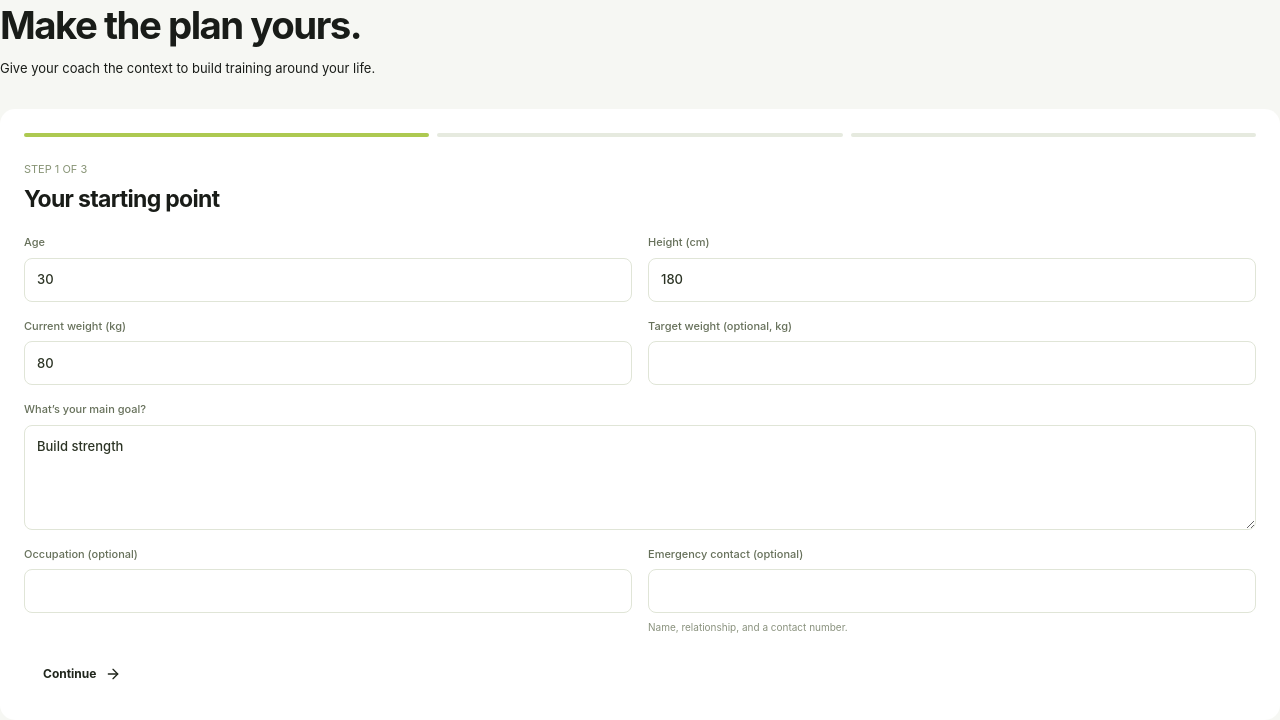
Test: assessment and consent updates › uses the current policy version, preserves a withdrawn photo permission, and omits blank numeric fields
(page scrolled)
Expected: the heading "Your starting point" is shown, [24,185,219,213]
Click the button "Continue" at point(82, 674), box [24,652,140,696]
(page scrolled)
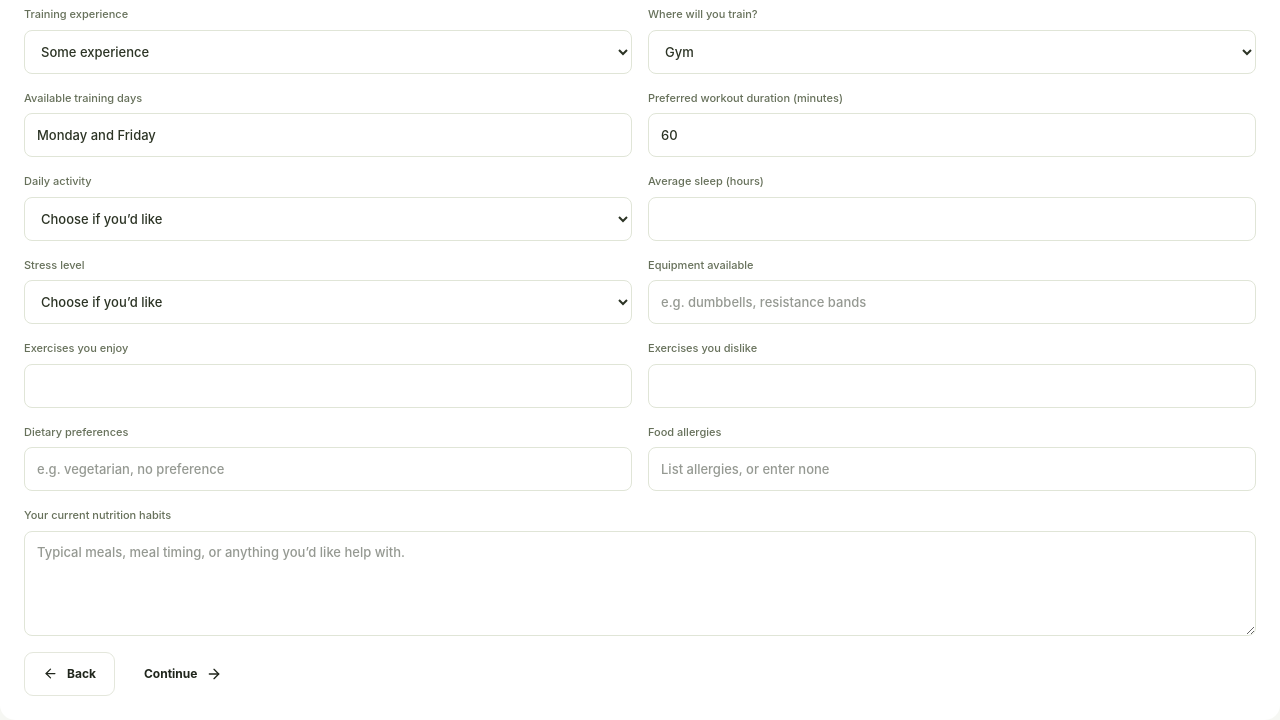
Click the button "Continue" at point(183, 674), box [125,652,241,696]
(page scrolled)
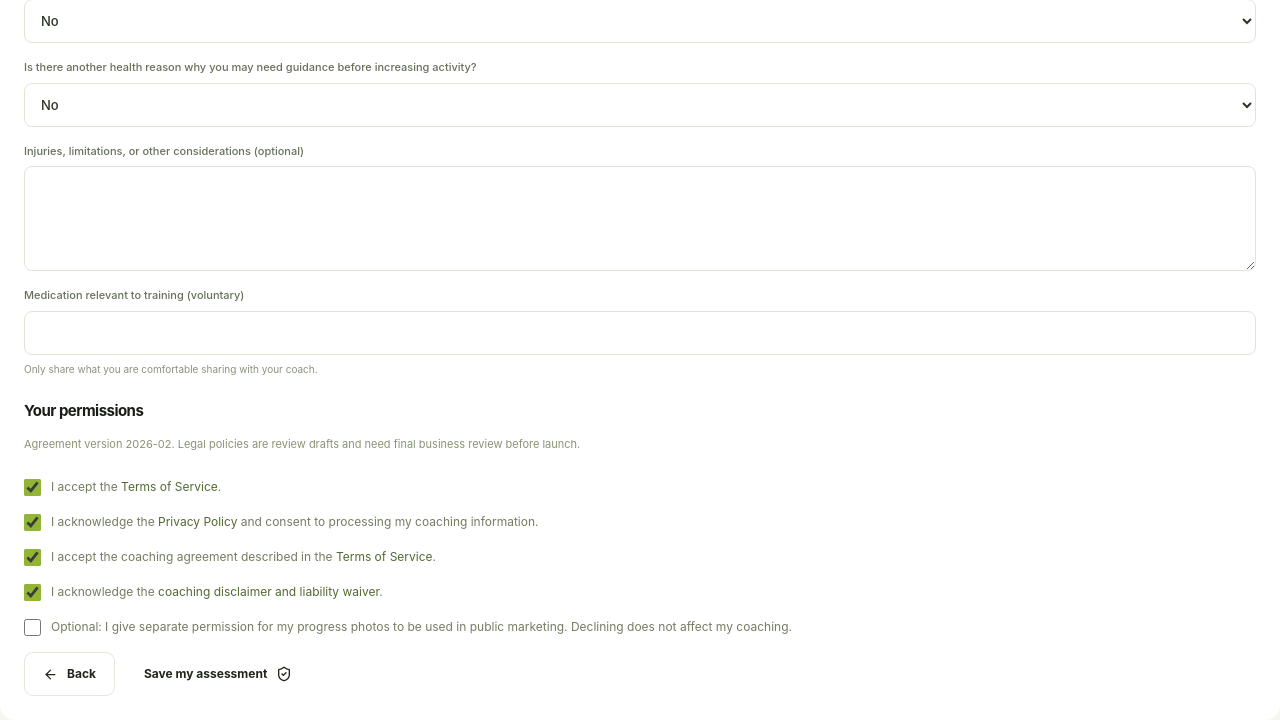
Result: the checkbox labelled "Optional: I give separate permission" is not checked at [24,619,41,636]
Click the button "Save my assessment" at point(218, 674), box [125,652,311,696]
(page scrolled)
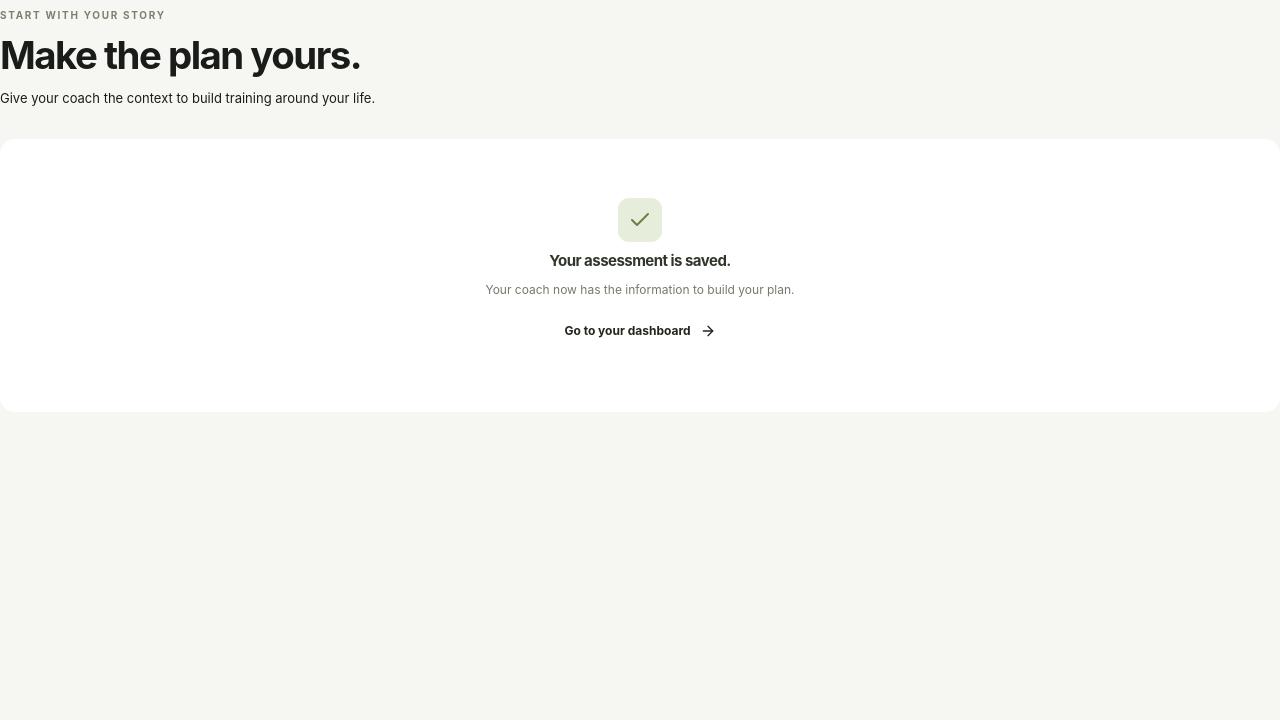
Result: the heading "Your assessment is saved." is shown at [549,252,731,270]
